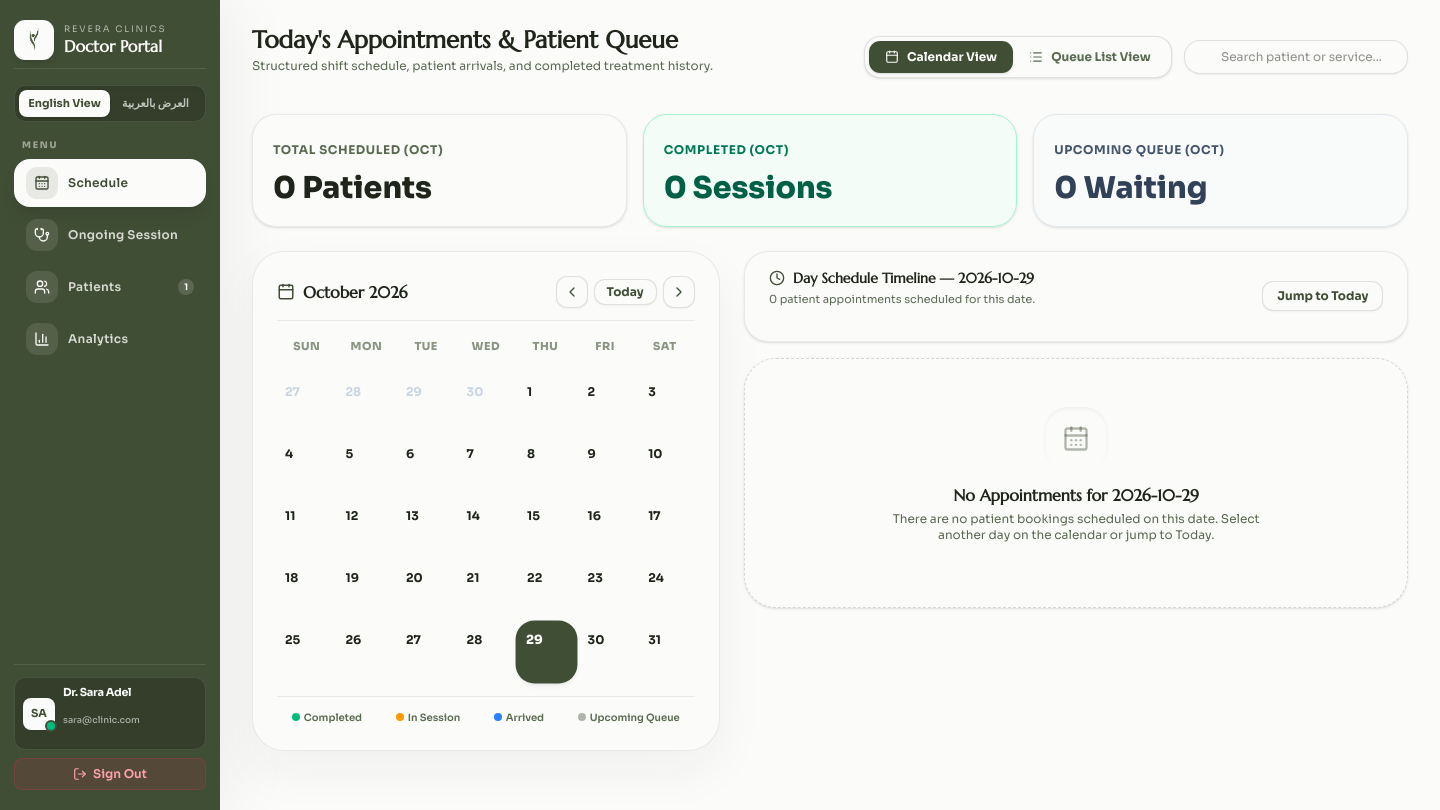
Test: reservation filtering › excludes rejected and cancelled bookings from the doctor patients list
Click the button titled "Patients" at (110, 287), box [14,263,206,311]
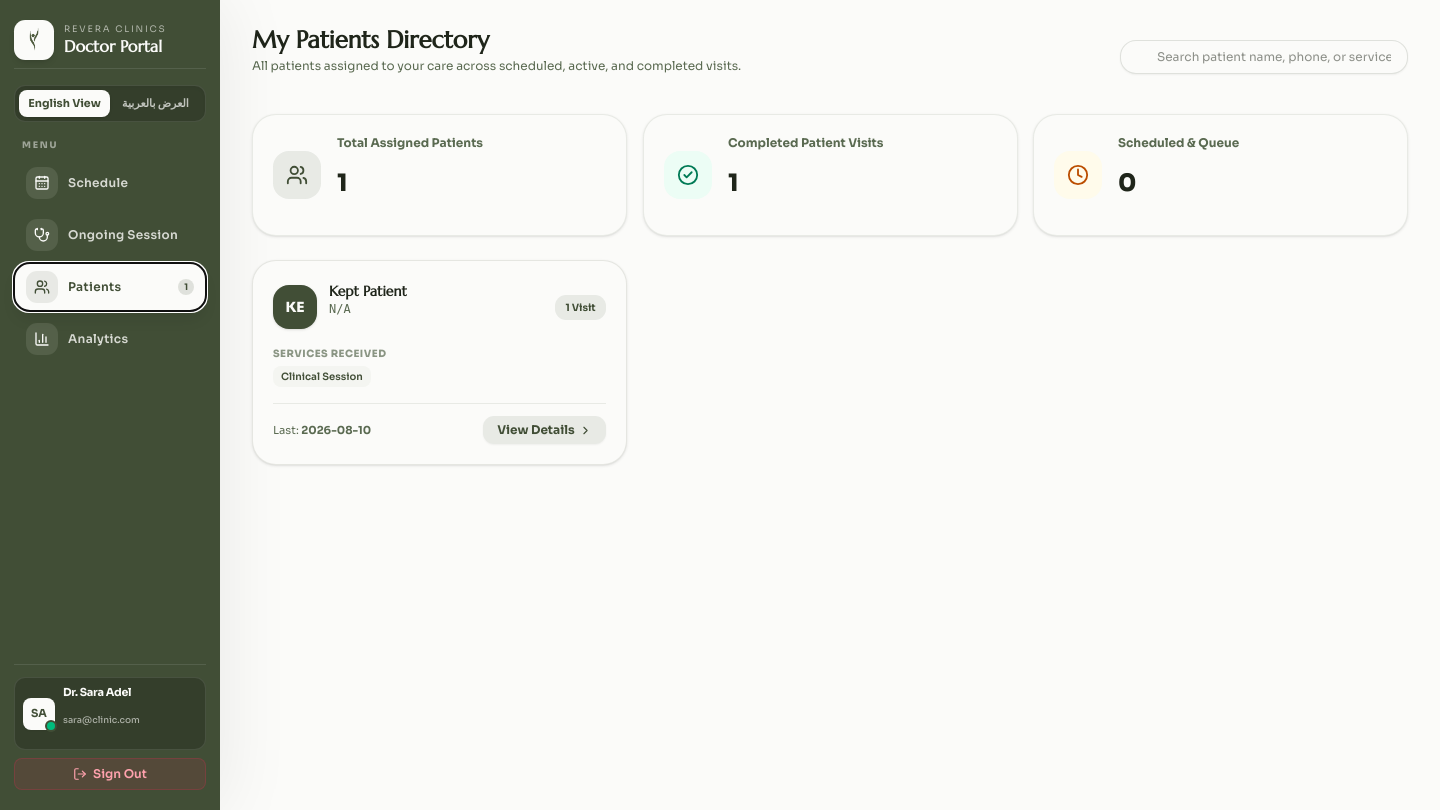
Now the heading "Kept Patient" is shown, box [329,281,407,301]
